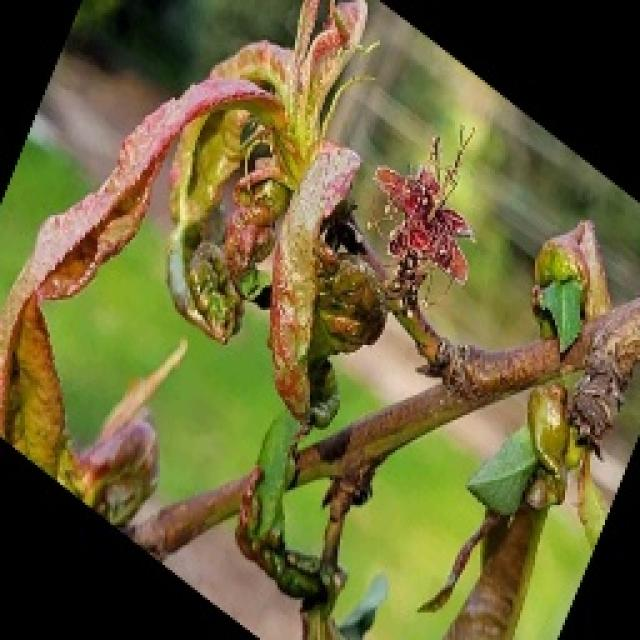peach_leaf_curl: (110, 58, 342, 412), (370, 123, 478, 285)
